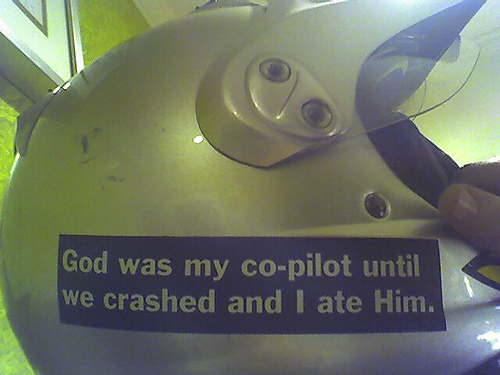helmet: (11, 30, 499, 372)
